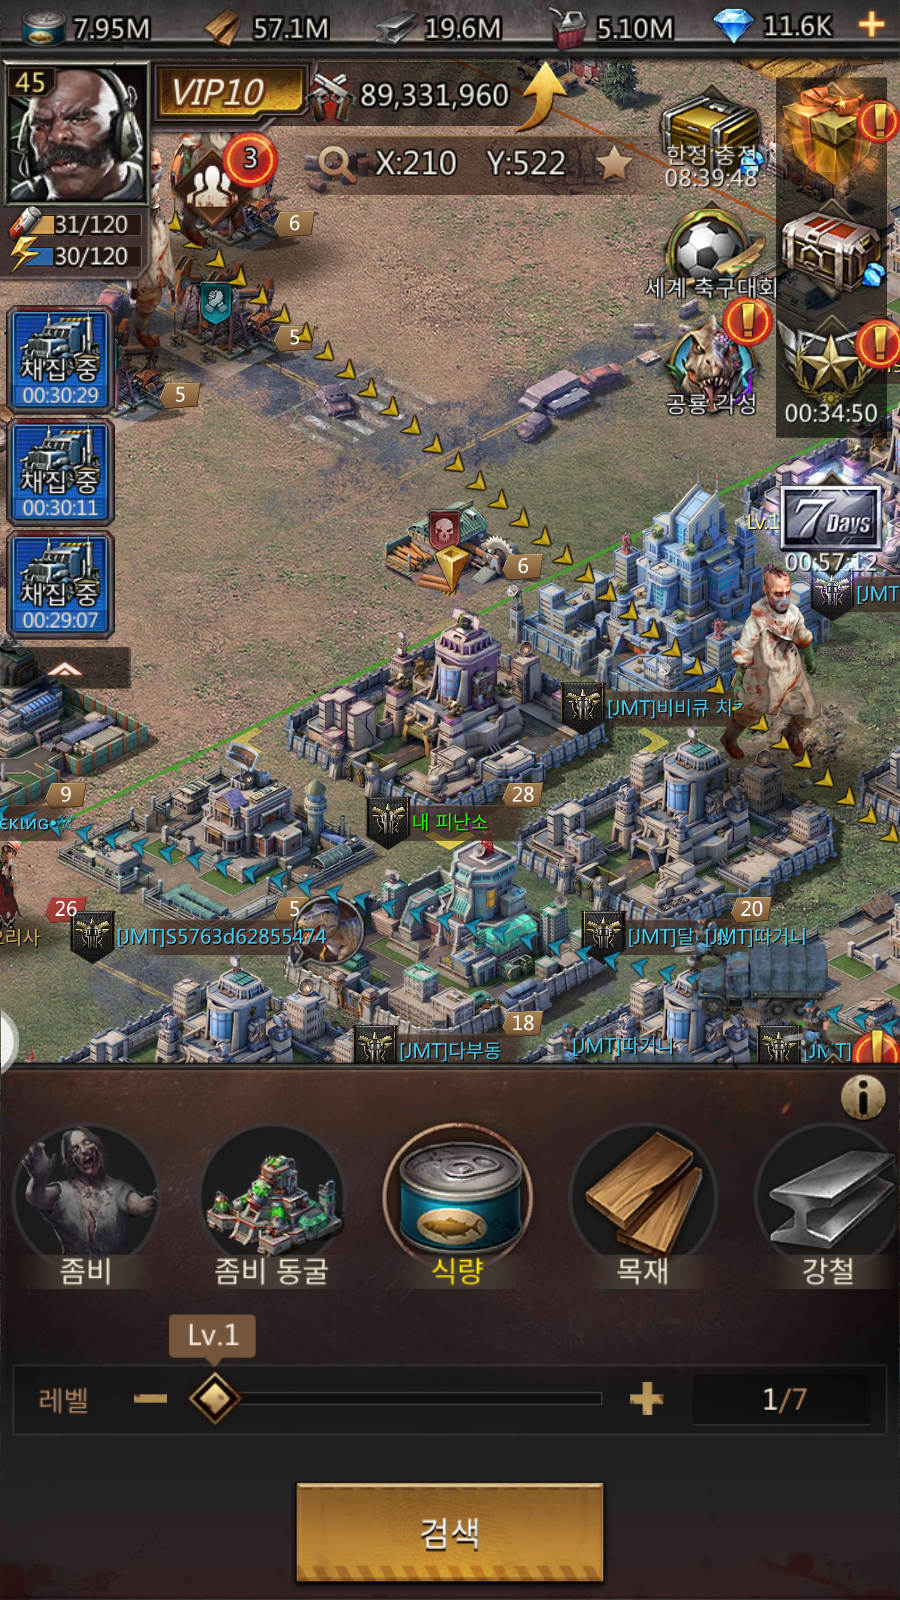rss_food_in_panel: (380, 1116, 535, 1300)
rss_lv1: (167, 1315, 260, 1360)
rss_minus_in_panel: (124, 1373, 178, 1420)
rss_plus_in_panel: (618, 1375, 667, 1424)
rss_search_in_panel: (295, 1482, 604, 1580)
rss_steel_in_panel: (749, 1115, 896, 1298)
rss_wood_in_panel: (571, 1116, 715, 1300)
troops_cnt_3: (164, 127, 287, 236)
